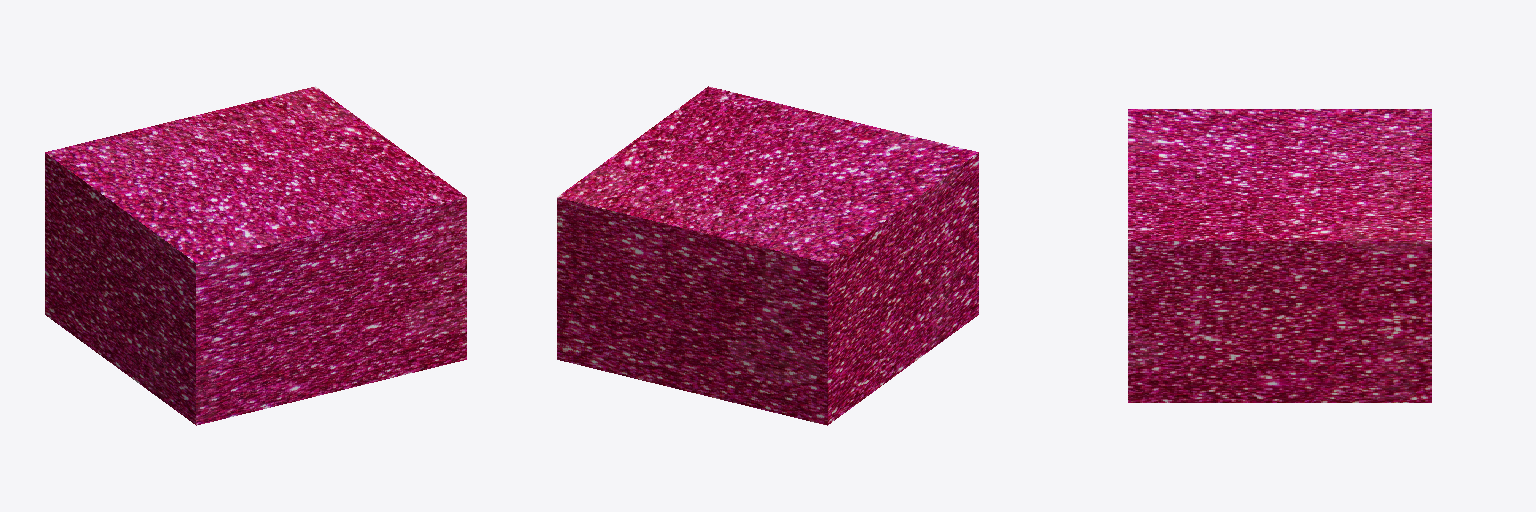
3 renders of one model, left to right at view 1: azimuth 30°, elevation 25°; view 2: azimuth 150°, elevation 25°; view 3: azimuth 270°, elevation 25°, orthographic.
Parts seen in each view (by area): view 1: Cube; view 2: Cube; view 3: Cube.
Part boxes in pixels (left/top/right/bottom): Cube: left=45, top=86, right=466, bottom=425; Cube: left=557, top=86, right=978, bottom=425; Cube: left=1128, top=109, right=1431, bottom=402.
Bounding box in the file's own units: 1.62 × 0.9255 × 1.57.
Materials: 1 (1 with a texture image).